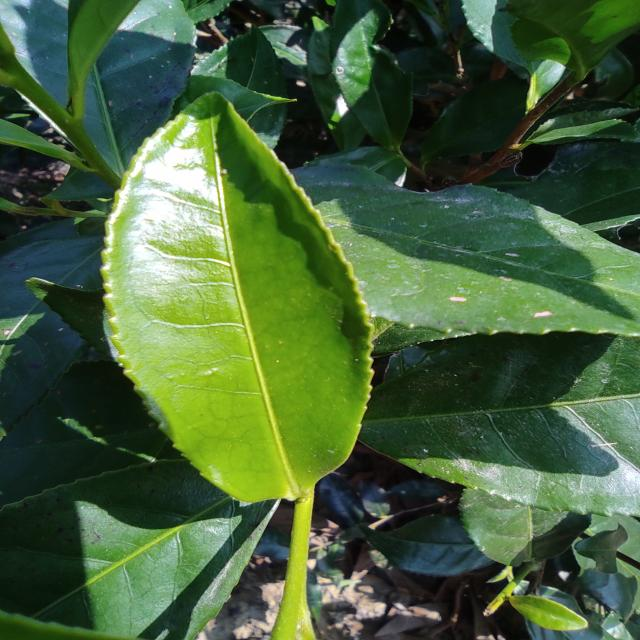Category C(4-7 days): (79, 72, 410, 519)
